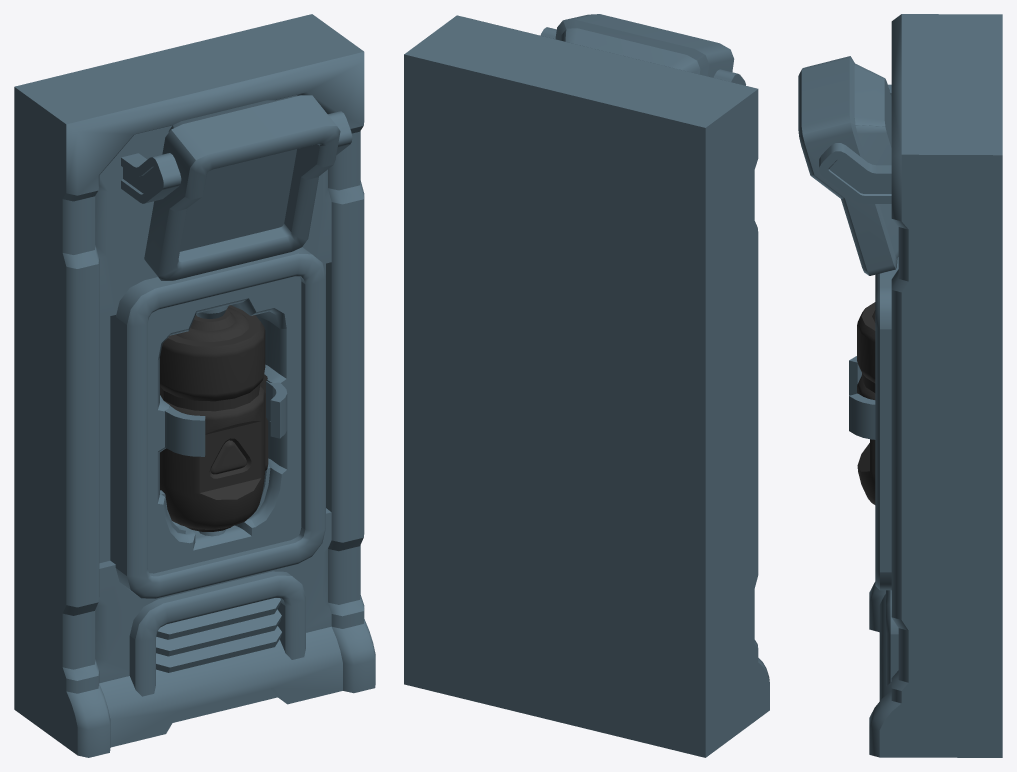
File: obj_survivalobject_powercoresocket_bpose.fbx
3 renders of one model, left to right at view 1: azimuth 30°, elevation 25°; view 2: azimuth 150°, elevation 25°; view 3: azimuth 270°, elevation 25°, orthographic. The views are drawn at different scales.
Parts seen in each view (by area): view 1: obj_survivalobject_powercoresocket_pose02; view 2: obj_survivalobject_powercoresocket_pose02; view 3: obj_survivalobject_powercoresocket_pose02.
Boxes of the visible parts, bbox=[...] form: obj_survivalobject_powercoresocket_pose02: bbox=[14, 14, 375, 757]; obj_survivalobject_powercoresocket_pose02: bbox=[404, 14, 769, 757]; obj_survivalobject_powercoresocket_pose02: bbox=[798, 14, 1002, 757].
Bounding box in the file's own units: 6 × 11.99 × 3.68.
